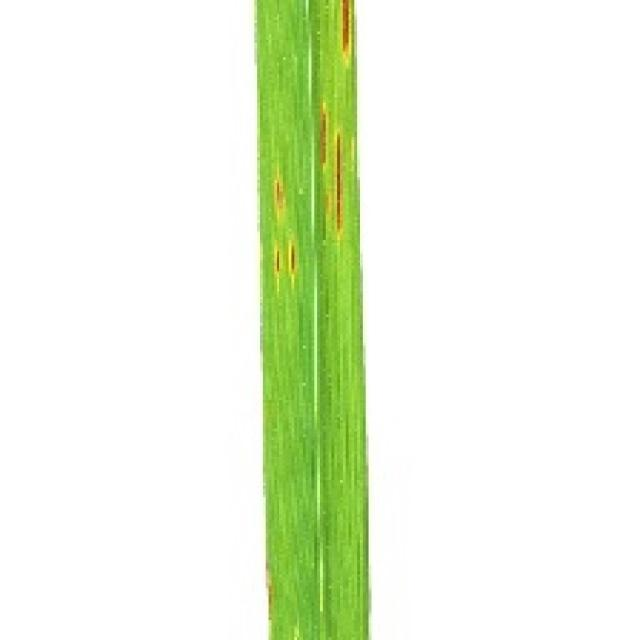Unhealthy: (324, 126, 345, 241), (340, 0, 353, 69), (318, 99, 331, 168), (272, 170, 287, 219), (288, 238, 299, 289), (272, 243, 282, 292)
